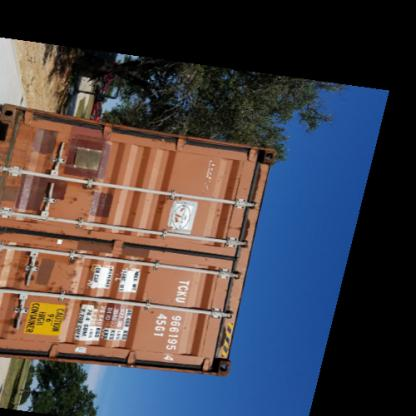Damage: (0, 105, 32, 153), (1, 248, 33, 292), (43, 265, 86, 292), (65, 186, 101, 214), (3, 311, 27, 341), (235, 214, 254, 246)
